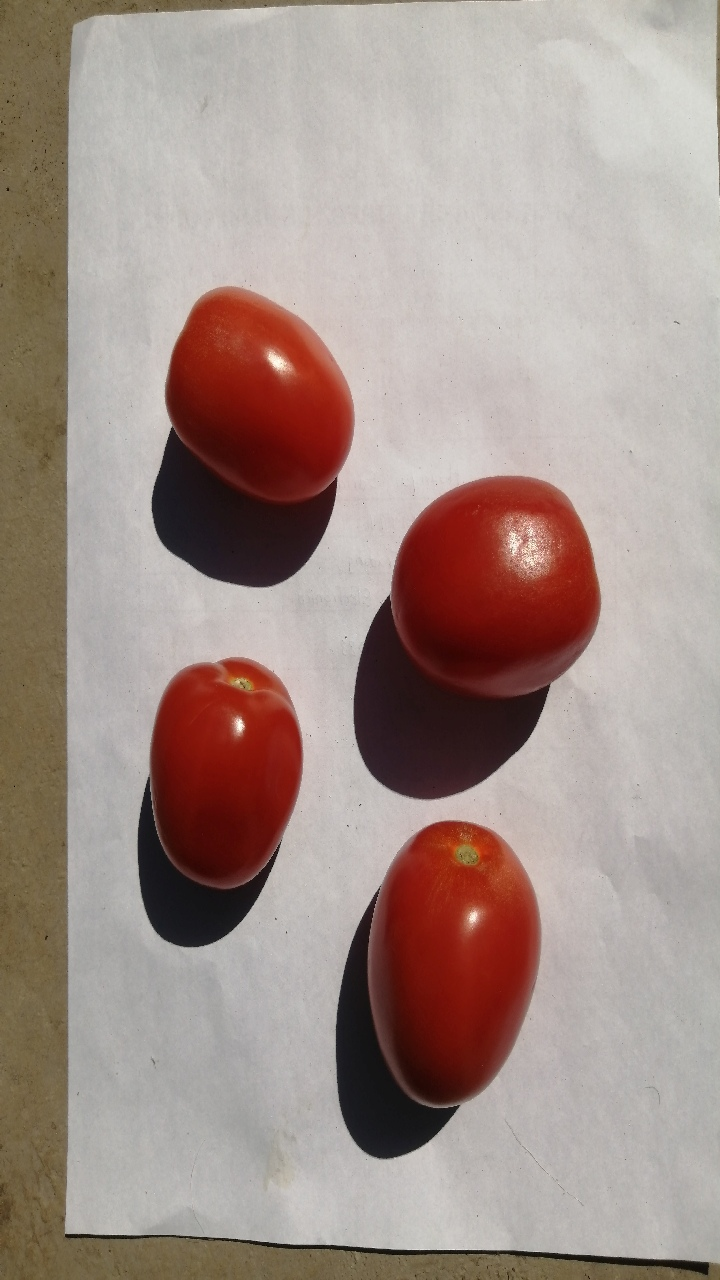tomateRojo: (364, 451, 620, 735), (351, 809, 554, 1135), (152, 263, 366, 534), (118, 620, 300, 899)
